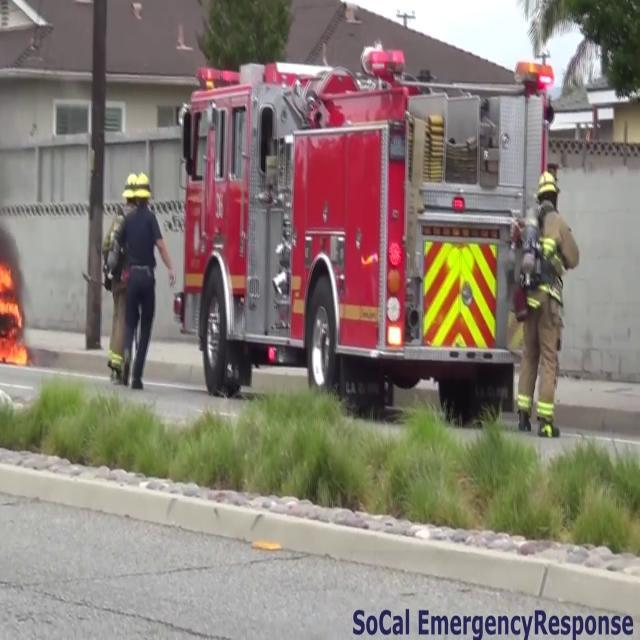Fire: (0, 253, 32, 364)
